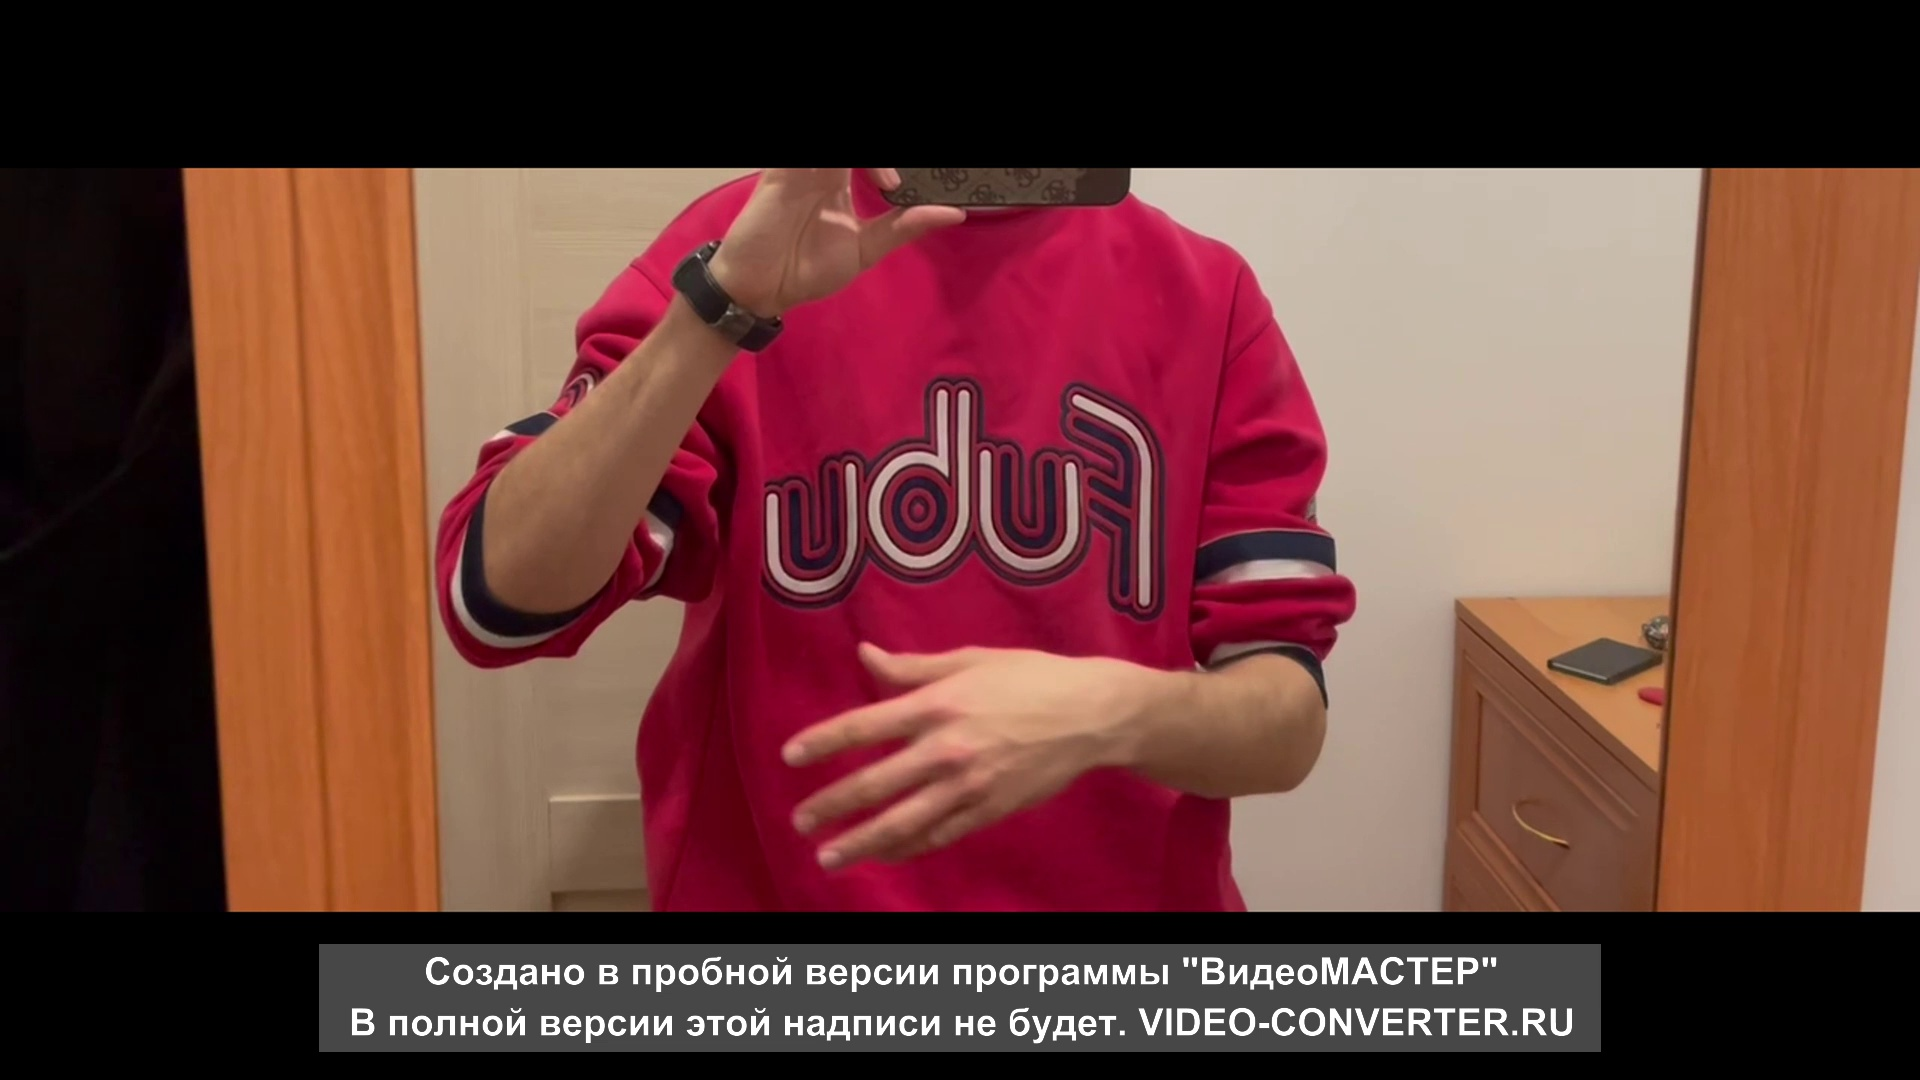Кисть: (779, 640, 1108, 866)
